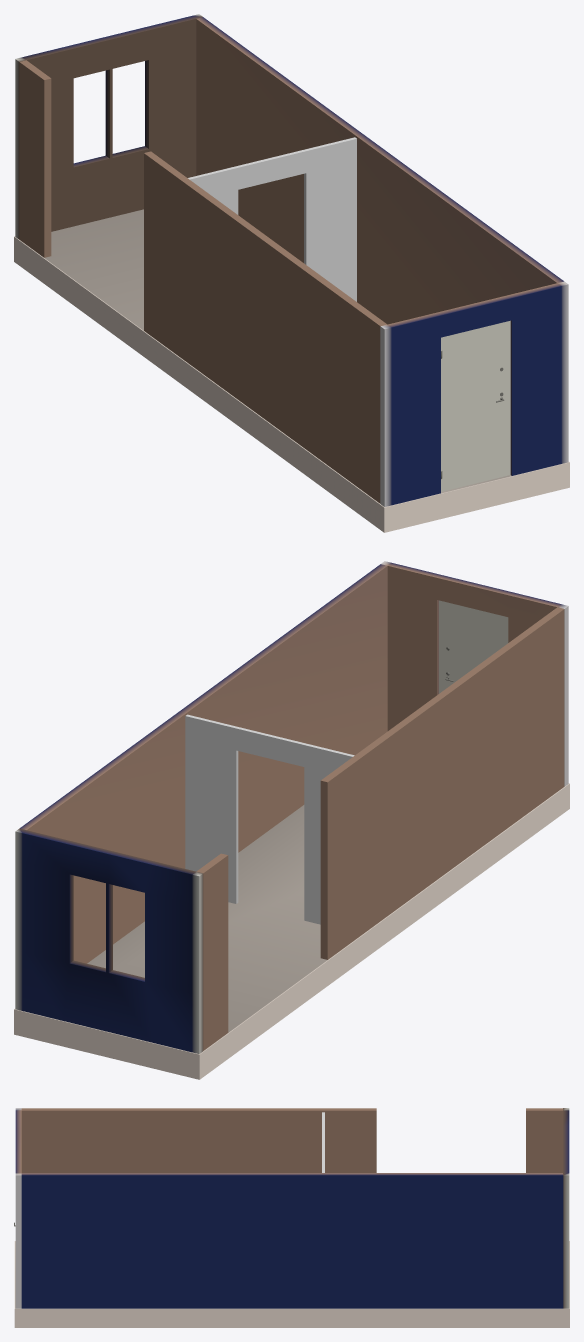
File: Bod1.fbx
3 renders of one model, top to bottom at view 1: azimuth 30°, elevation 25°; view 2: azimuth 150°, elevation 25°; view 3: azimuth 270°, elevation 25°, orthographic. The views are drawn at different scales.
Visible parts, largest first — view 1: WallLong1, WallLong2.006, WallShortDoor.004, Floor.006, WallShortDoubleWindows.002, Door.001, WallShortDoorInterior.002; view 2: WallLong1, WallLong2.006, Floor.006, WallShortDoubleWindows.002, WallShortDoorInterior.002, WallShortDoor.004, Door.001; view 3: WallLong2.006, WallLong1, Floor.006, WallShortDoor.004, WallShortDoubleWindows.002.
Boxes of the visible parts, bbox=[...] form: WallLong1: bbox=[19, 60, 387, 503]; WallLong2.006: bbox=[196, 17, 563, 324]; WallShortDoor.004: bbox=[380, 281, 568, 506]; Floor.006: bbox=[14, 209, 569, 532]; WallShortDoubleWindows.002: bbox=[15, 14, 202, 239]; Door.001: bbox=[441, 320, 510, 491]; WallShortDoorInterior.002: bbox=[188, 137, 356, 301]; WallLong1: bbox=[196, 607, 564, 1050]; WallLong2.006: bbox=[20, 564, 387, 963]; Floor.006: bbox=[14, 783, 569, 1079]; WallShortDoubleWindows.002: bbox=[15, 828, 203, 1053]; WallShortDoorInterior.002: bbox=[185, 714, 354, 924]; WallShortDoor.004: bbox=[381, 561, 568, 786]; Door.001: bbox=[439, 600, 508, 693]; WallLong2.006: bbox=[21, 1173, 563, 1308]; WallLong1: bbox=[21, 1108, 562, 1172]; Floor.006: bbox=[14, 1241, 569, 1327]; WallShortDoor.004: bbox=[15, 1108, 21, 1308]; WallShortDoubleWindows.002: bbox=[563, 1108, 569, 1308].
Bounding box in the file's own units: 262 × 274 × 906.
